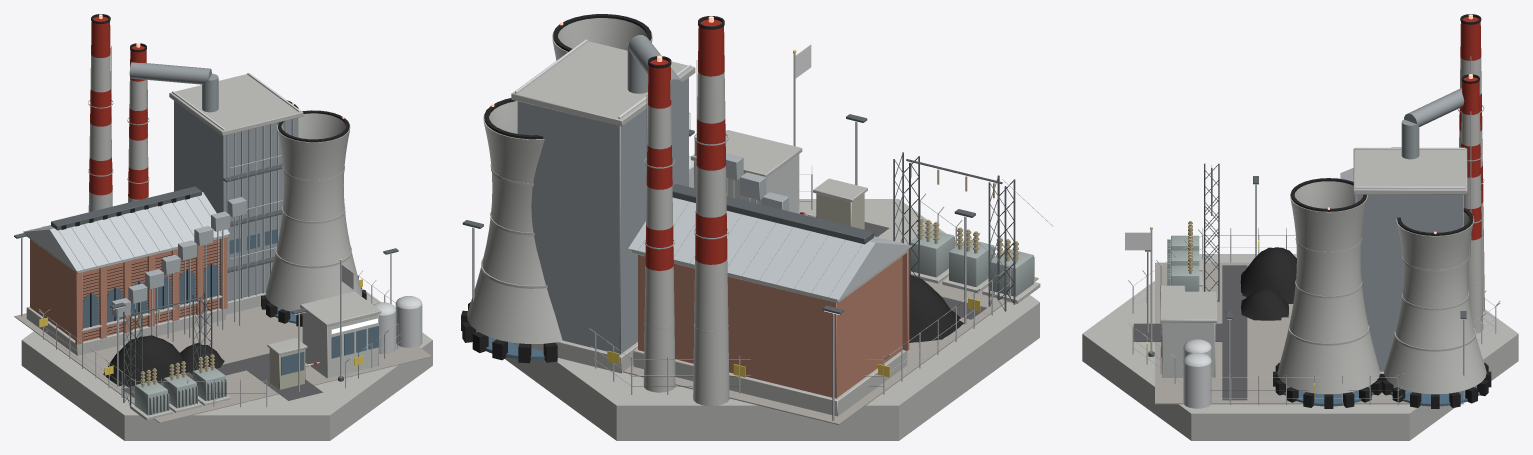
The model's file is powerPlant.glb.
The picture shows the model from 3 angles, left to right: view 1: azimuth 30°, elevation 25°; view 2: azimuth 150°, elevation 25°; view 3: azimuth 270°, elevation 25°; orthographic projection. The views are drawn at different scales.
Visible parts, largest first — view 1: wall_concrete, cladding, brick, paint, gravel, metal, dark, steel_dark, glass, asphalt; view 2: wall_concrete, cladding, brick, paint, metal, steel_dark, dark, gravel, asphalt, hazard; view 3: wall_concrete, cladding, dark, gravel, paint, metal, asphalt, steel_dark, glass, banner.
Boxes of the visible parts, box(x1,y1,x2,y2) form: wall_concrete: box(21, 54, 432, 440); cladding: box(23, 72, 378, 389); brick: box(30, 237, 227, 344); paint: box(89, 16, 422, 387); gravel: box(14, 306, 431, 423); metal: box(21, 46, 402, 415); dark: box(61, 14, 366, 387); steel_dark: box(14, 164, 398, 407); glass: box(83, 229, 378, 375); asphalt: box(122, 353, 322, 400); wall_concrete: box(467, 18, 1040, 440); cladding: box(515, 39, 912, 354); brick: box(638, 249, 909, 398); paint: box(627, 19, 1018, 270); metal: box(472, 53, 1053, 420); steel_dark: box(462, 114, 1015, 314); dark: box(461, 14, 963, 363); gravel: box(623, 276, 1038, 424); asphalt: box(864, 222, 986, 319); hazard: box(607, 298, 980, 377); wall_concrete: box(1082, 57, 1518, 440); cladding: box(1162, 147, 1465, 377); dark: box(1240, 14, 1491, 408); gravel: box(1155, 262, 1463, 404); paint: box(1183, 17, 1483, 408); metal: box(1128, 56, 1500, 405); asphalt: box(1133, 265, 1247, 400); steel_dark: box(1145, 147, 1466, 356); glass: box(1161, 323, 1479, 406); banner: box(1125, 232, 1150, 250).
Size of the model in its own units: 22.66 by 20.02 by 24.6.
